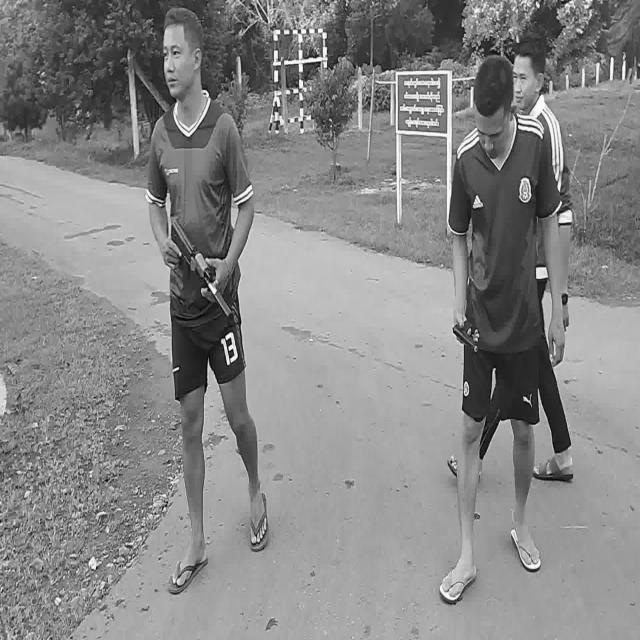gun: (172, 220, 233, 320), (453, 320, 478, 352)
